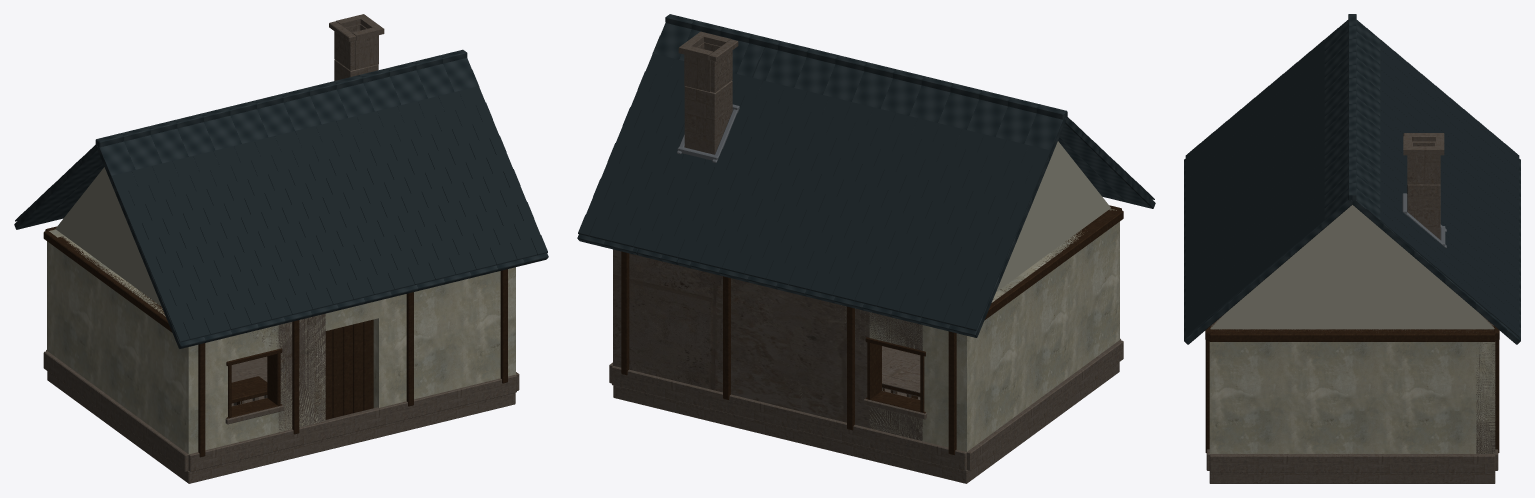
Rendered from s_porters_kitchen.glb.
The picture shows the model from 3 angles, left to right: view 1: azimuth 30°, elevation 25°; view 2: azimuth 150°, elevation 25°; view 3: azimuth 270°, elevation 25°; orthographic projection. The views are drawn at different scales.
Parts seen in each view (by area): view 1: roof, front, foundation, corner post, front-colonly.003, Door plank.004, Door plank.003, Door plank.001, Door plank.002, common table, Door plank; view 2: roof, front, rear-colonly.003, foundation, corner post, rear-colonly.002, rear-colonly.001, common table-colonly.001, chimney wall-colonly.003, stove hatch; view 3: roof, front, foundation, corner post, rear-colonly.003, chimney wall-colonly.001, chimney rim-colonly.001, stove hatch.
Boxes of the visible parts, x1,y1,x2,y2 form: roof: (14, 49, 548, 348); front: (47, 167, 515, 471); foundation: (43, 14, 519, 483); corner post: (43, 226, 507, 457); front-colonly.003: (278, 313, 325, 432); Door plank.004: (363, 319, 373, 410); Door plank.003: (353, 322, 363, 413); Door plank.001: (332, 327, 342, 417); Door plank.002: (343, 324, 352, 415); common table: (231, 376, 267, 404); Door plank: (325, 329, 332, 419); roof: (577, 14, 1155, 337); front: (801, 141, 1119, 470); rear-colonly.003: (613, 249, 869, 428); foundation: (609, 32, 1123, 483); corner post: (621, 205, 1123, 454); rear-colonly.002: (869, 312, 922, 350); rear-colonly.001: (869, 406, 922, 440); common table-colonly.001: (882, 367, 920, 396); chimney wall-colonly.003: (689, 56, 710, 91); stove hatch: (677, 104, 739, 162); roof: (1184, 14, 1520, 344); front: (1209, 205, 1495, 454); foundation: (1206, 133, 1498, 483); corner post: (1205, 321, 1499, 452); rear-colonly.003: (1476, 342, 1495, 454); chimney wall-colonly.001: (1407, 155, 1440, 184); chimney rim-colonly.001: (1403, 146, 1444, 155); stove hatch: (1402, 193, 1446, 248).
Size of what is drawn, in the model's own units: 9 by 7.34 by 7.08.
5 materials, 4 textured.
